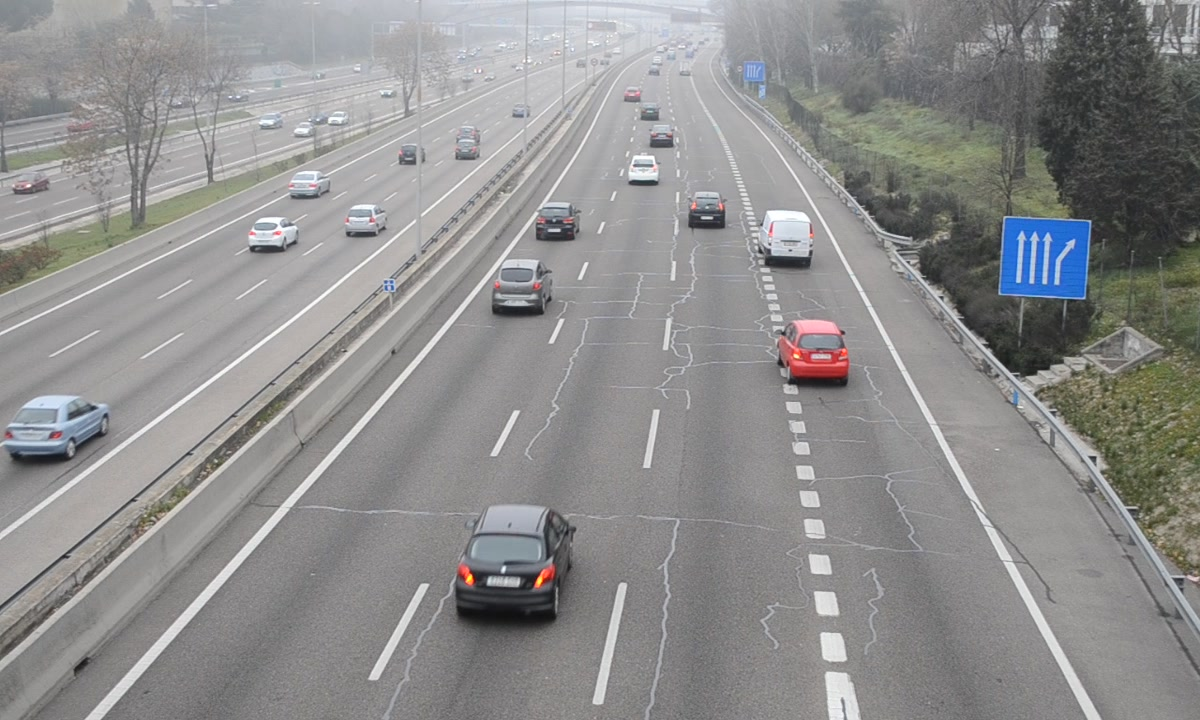car: (456, 506, 576, 616), (781, 319, 851, 379), (493, 259, 552, 314), (534, 203, 581, 242), (688, 191, 728, 229), (626, 151, 662, 185), (651, 121, 673, 149)
van: (759, 209, 815, 264)
